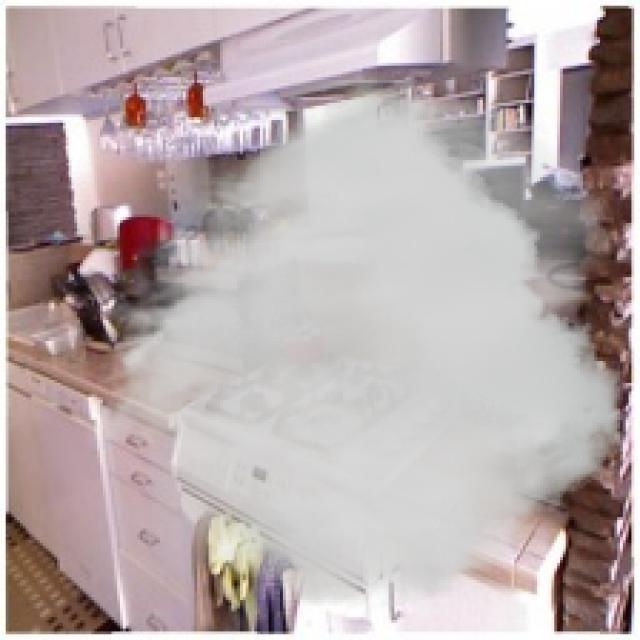Smoke: (83, 80, 623, 614)
